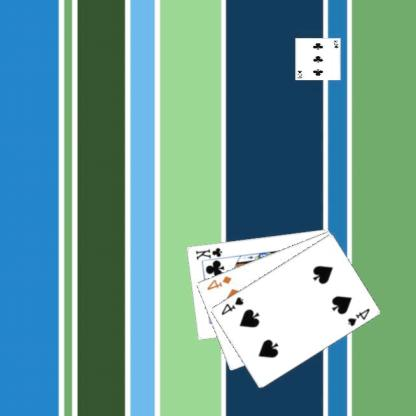4D: (205, 273, 235, 291)
4S: (346, 305, 373, 328), (220, 294, 247, 316)
KC: (195, 244, 228, 263)
